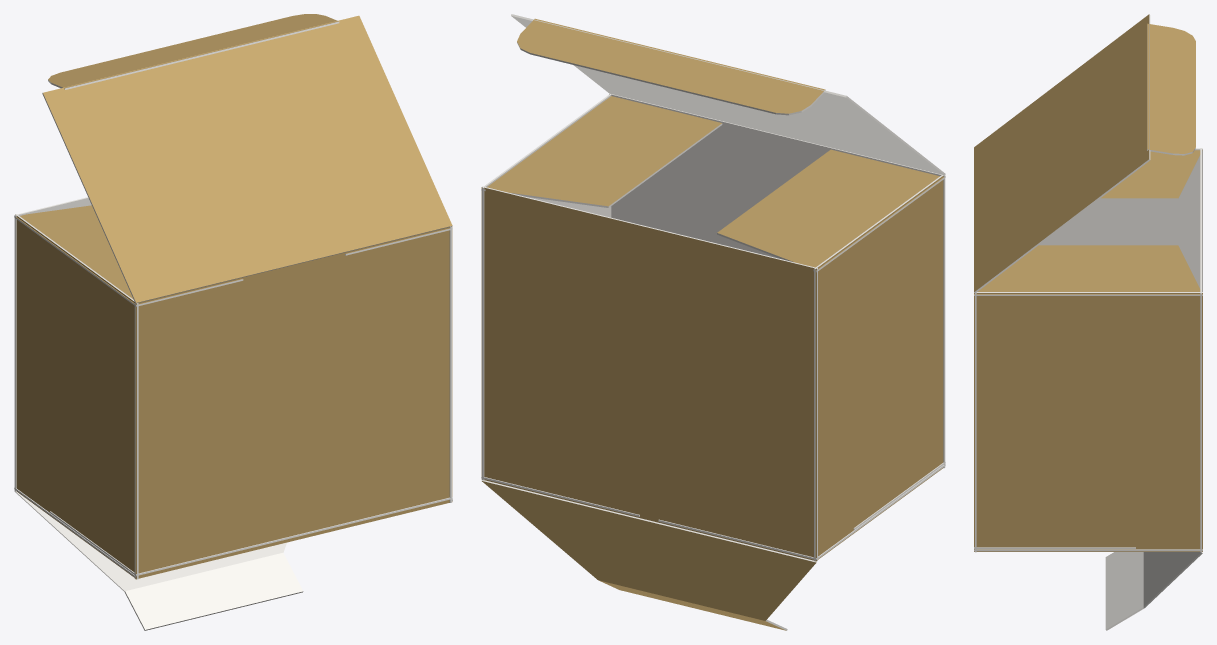
3 renders of one model, left to right at view 1: azimuth 30°, elevation 25°; view 2: azimuth 150°, elevation 25°; view 3: azimuth 270°, elevation 25°, orthographic. The views are drawn at different scales.
Visible parts, largest first — view 1: Packive_Box_fefco0215; view 2: Packive_Box_fefco0215; view 3: Packive_Box_fefco0215.
Part boxes in pixels (left/top/right/bottom): Packive_Box_fefco0215: left=14, top=14, right=452, bottom=630; Packive_Box_fefco0215: left=481, top=14, right=945, bottom=630; Packive_Box_fefco0215: left=974, top=14, right=1202, bottom=630.
Bounding box in the file's own units: 0.3 × 0.49 × 0.2.
Materials: 26 (13 with a texture image).
